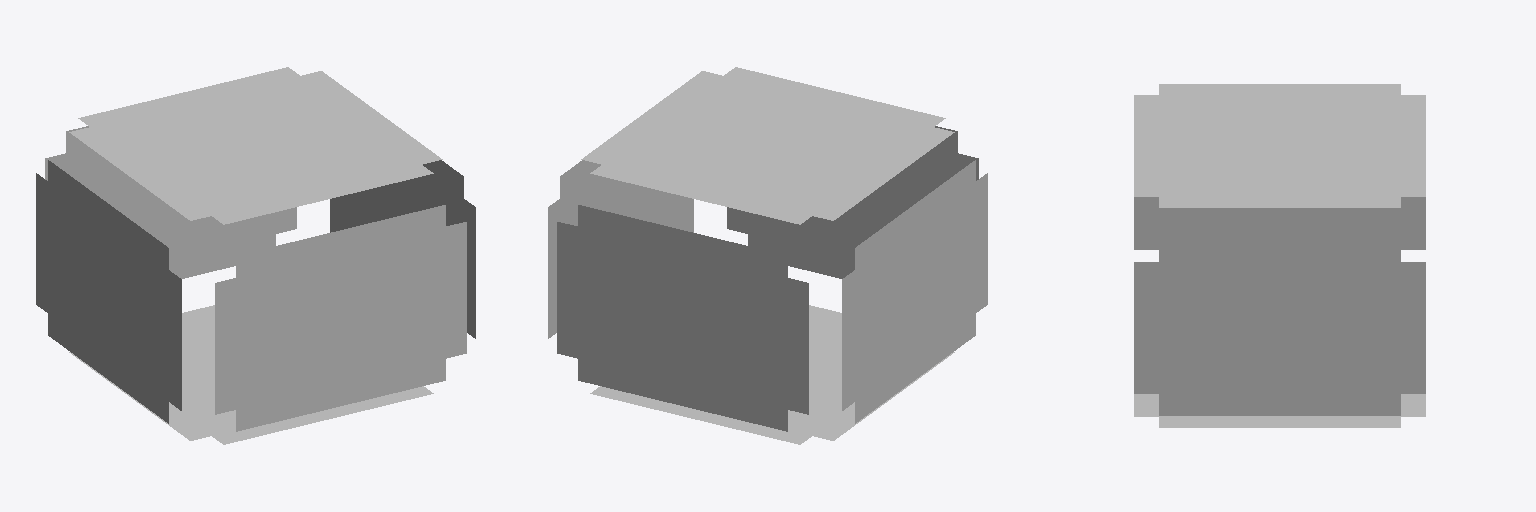
Rendered from reinforced_chest.obj.
The picture shows the model from 3 angles: view 1: azimuth 30°, elevation 25°; view 2: azimuth 150°, elevation 25°; view 3: azimuth 270°, elevation 25°; orthographic projection.
Visible parts, largest first — view 1: reinforced_chest; view 2: reinforced_chest; view 3: reinforced_chest.
Boxes of the visible parts, <box> form: reinforced_chest: <box>36,67,475,444</box>; reinforced_chest: <box>548,67,987,444</box>; reinforced_chest: <box>1134,84,1425,427</box>.
Bounding box in the file's own units: 0.875 × 0.625 × 0.875.